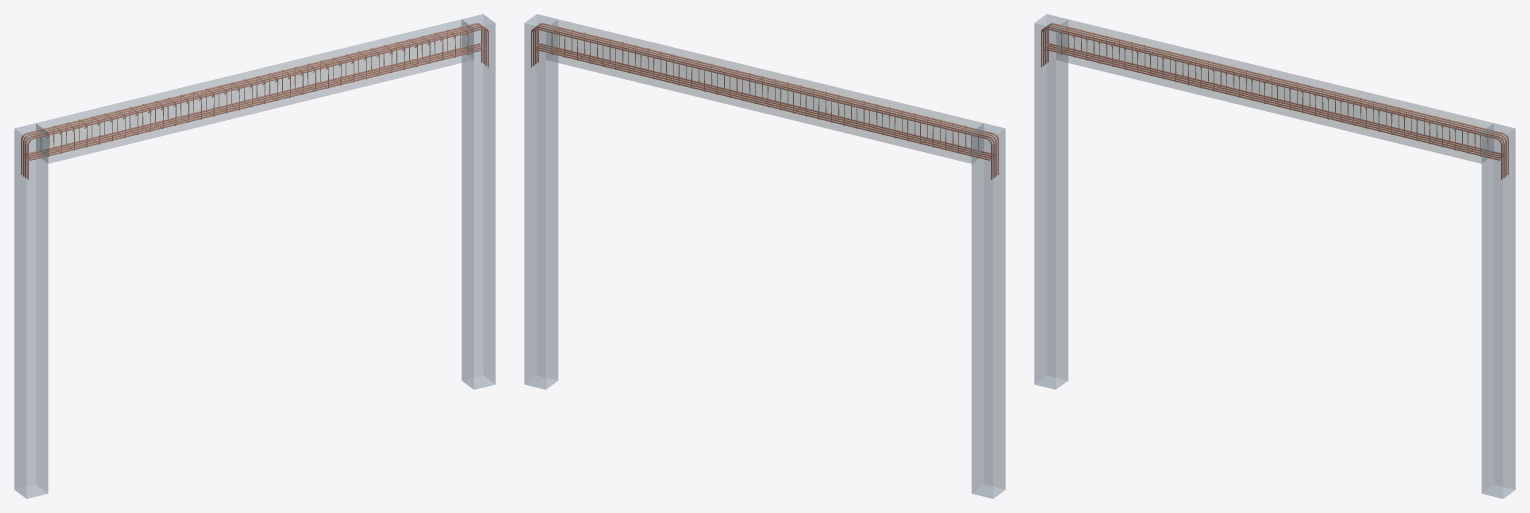
File: model_bez_betonu.glb
3 renders of one model, left to right at view 1: azimuth 30°, elevation 25°; view 2: azimuth 150°, elevation 25°; view 3: azimuth 330°, elevation 25°, orthographic.
Parts seen in each view (by area): view 1: Beam, S-1, S-1.001, Zbrojenie górne, Zbrojenie dolne, Strzemiona; view 2: Beam, S-1, S-1.001, Zbrojenie górne, Zbrojenie dolne, Strzemiona; view 3: Beam, S-1.001, S-1, Zbrojenie górne, Zbrojenie dolne, Strzemiona.
Boxes of the visible parts, x1,y1,x2,y2 form: Beam: (36,19,473,163); S-1: (14,123,48,498); S-1.001: (461,14,495,389); Zbrojenie górne: (21,23,488,179); Zbrojenie dolne: (24,43,486,160); Strzemiona: (41,26,468,156); Beam: (546,19,983,163); S-1: (971,123,1005,498); S-1.001: (524,14,558,389); Zbrojenie górne: (531,23,998,179); Zbrojenie dolne: (533,43,995,160); Strzemiona: (551,26,978,156); Beam: (1056,19,1493,163); S-1.001: (1481,123,1515,498); S-1: (1034,14,1068,389); Zbrojenie górne: (1041,23,1508,179); Zbrojenie dolne: (1043,43,1505,160); Strzemiona: (1060,26,1487,156).
Size of the model in its own units: 5.43 by 4 by 0.25.
